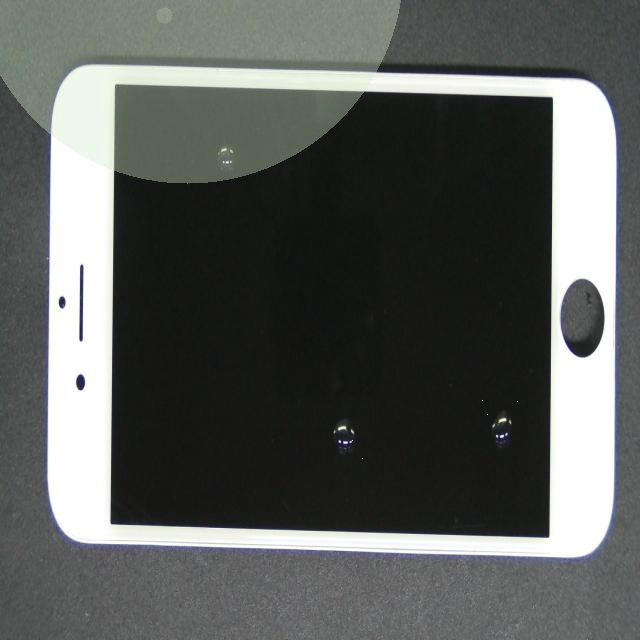oil: (156, 185, 495, 640), (271, 209, 640, 609), (98, 48, 318, 241)
